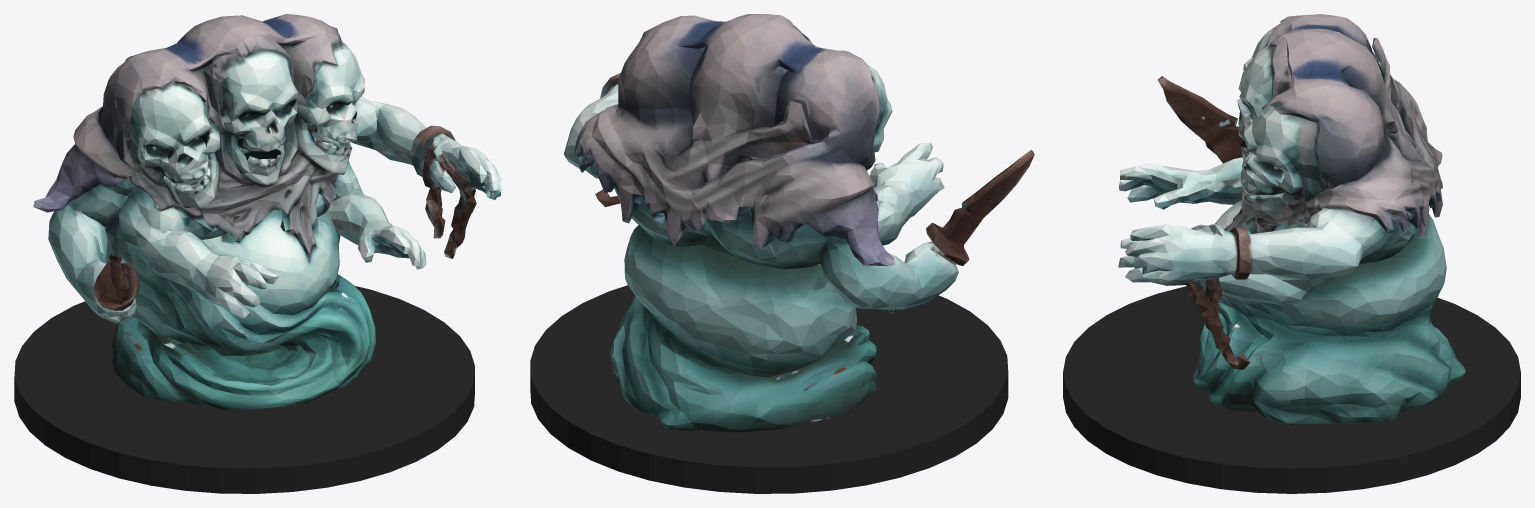
Rendered from nh-spirit-host.glb.
3 views of the same model, side by side, from view 1: azimuth 30°, elevation 25°; view 2: azimuth 150°, elevation 25°; view 3: azimuth 270°, elevation 25° (orthographic). The views are drawn at different scales.
Visible parts, largest first — view 1: figure, base; view 2: figure, base; view 3: figure, base.
Part boxes in pixels (<box>): figure: <box>33,14,501,410</box>; base: <box>14,286,474,493</box>; figure: <box>564,14,1034,432</box>; base: <box>530,285,1008,493</box>; figure: <box>1118,14,1465,424</box>; base: <box>1063,286,1520,493</box>.
Size of the model in its own units: 1.97 by 1.72 by 1.97.
2 materials, 1 textured.
